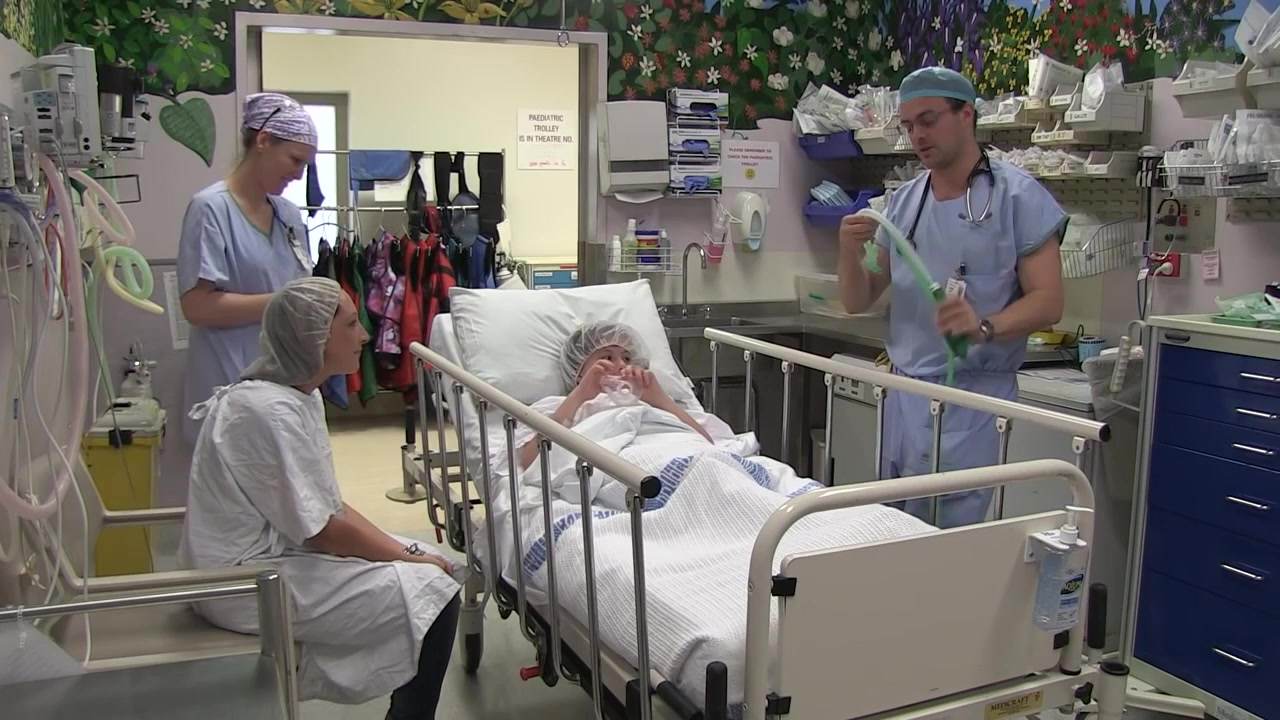bedrail: (407, 339, 664, 720), (681, 326, 1113, 531)
breathing_tube: (1, 147, 162, 516)
chair: (14, 449, 300, 720)
countertop: (655, 312, 804, 334), (802, 312, 890, 345)
dispenser: (1033, 505, 1092, 634), (598, 99, 671, 198), (668, 92, 724, 202), (731, 191, 767, 251)
faucet: (657, 243, 712, 319)
foot_board: (745, 457, 1095, 720)
handle: (1225, 493, 1280, 512), (1216, 644, 1254, 667), (1234, 405, 1280, 420), (1224, 562, 1259, 580), (1231, 443, 1280, 455), (1242, 372, 1280, 387)
hospital_bed: (401, 279, 1098, 719)
medical_drawer: (1124, 313, 1280, 720)
patient: (518, 321, 718, 469)
sink: (656, 317, 768, 331)
staff: (838, 66, 1070, 530), (177, 92, 318, 449)
visitor: (173, 276, 473, 719)
